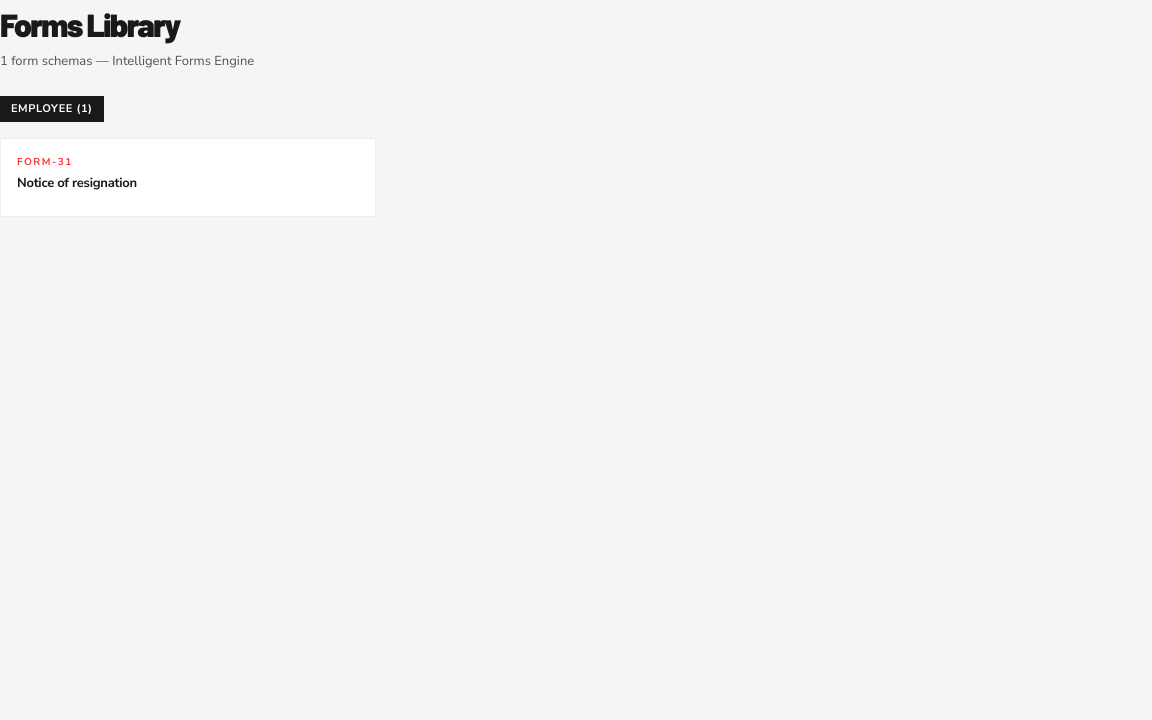
Test: generic forms cannot submit until their delayed schema is ready
Later steps or results of the test are not shown.
What coordinates should you click on to do the following:
click the button with aria-label "Open Notice of resignation"
I would click on:
 (45, 162)
Its box is x1=0 y1=138 x2=376 y2=216.
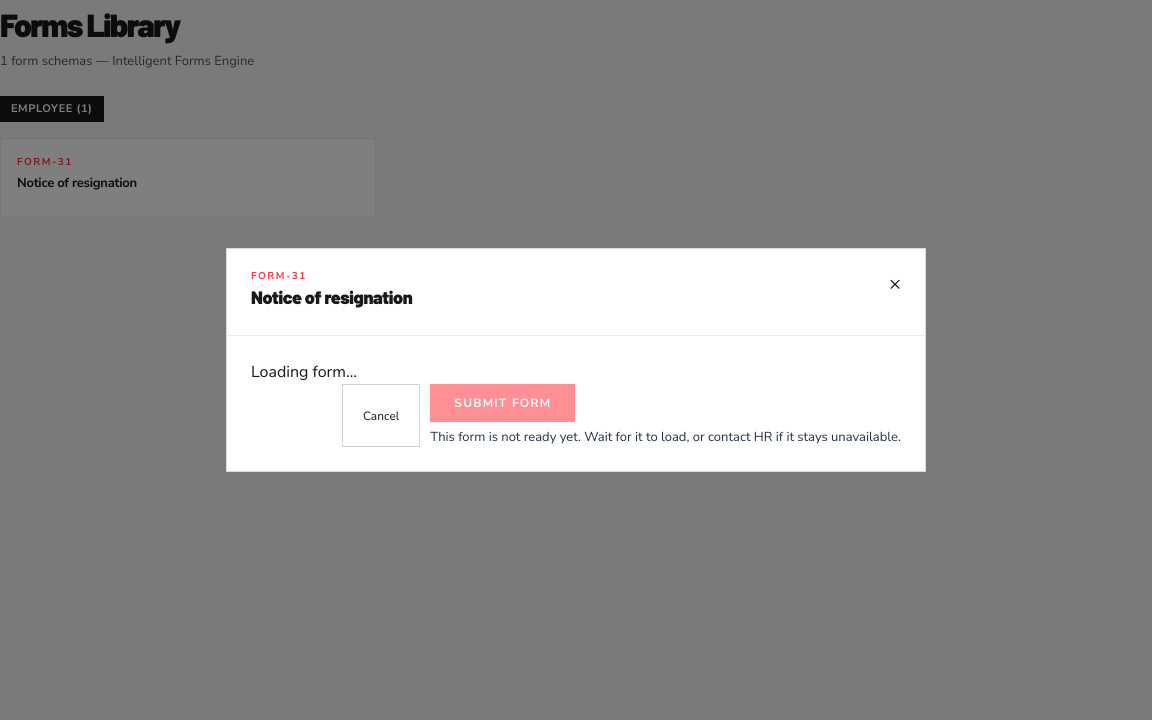
Expected: the text "Loading form" is shown, x1=251 y1=361 x2=357 y2=383
Expected: the button with test id "submit-form-btn" is disabled, x1=430 y1=384 x2=575 y2=422
